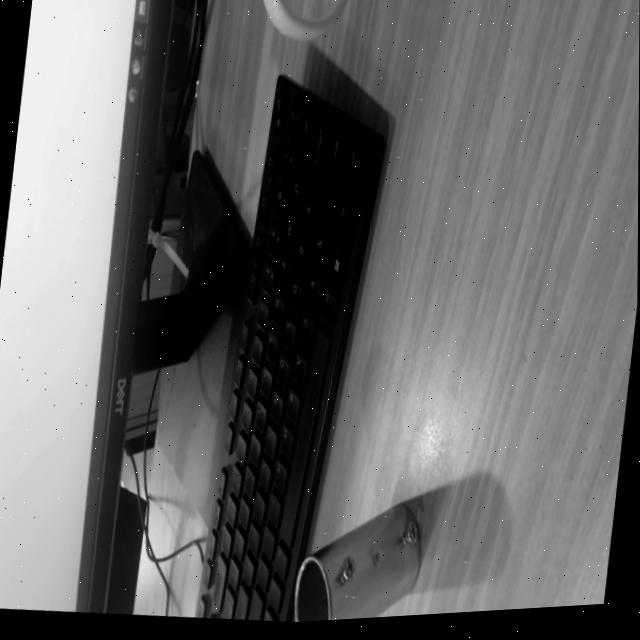Co_Lon: (268, 490, 450, 640)
